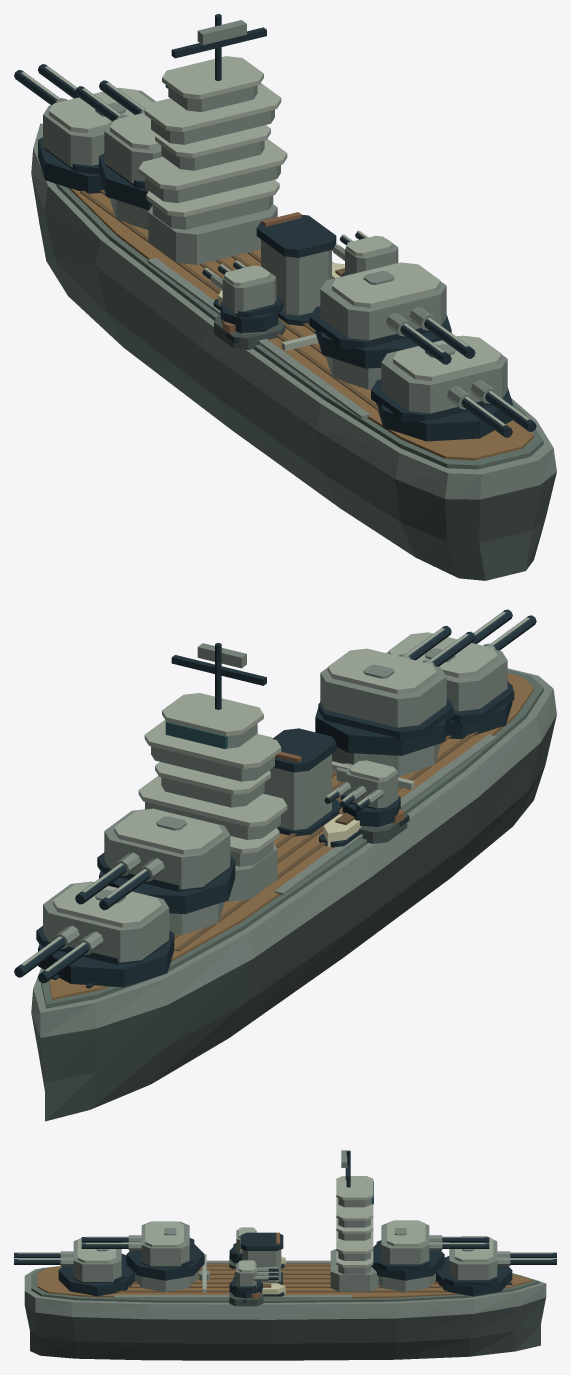
File: historic-nagato.glb
3 views of the same model, one above another, from view 1: azimuth 30°, elevation 25°; view 2: azimuth 150°, elevation 25°; view 3: azimuth 270°, elevation 25° (orthographic). The views are drawn at different scales.
Parts seen in each view (by area): view 1: historic-nagato-historic-nagato-geometry, historic-nagato-part_bridge.022-geometry, historic-nagato-turret_main_3.008-geometry, historic-nagato-turret_main_2.016-geometry, historic-nagato-turret_main_0.017-geometry, historic-nagato-historic_funnel_0.023-geometry, historic-nagato-turret_main_1.016-geometry, historic-nagato-turret_aa_aa-port.024-geometry, historic-nagato-turret_aa_aa-starboard.022-geometry, historic-nagato-part_aa-port.024-geometry; view 2: historic-nagato-historic-nagato-geometry, historic-nagato-part_bridge.022-geometry, historic-nagato-turret_main_2.016-geometry, historic-nagato-turret_main_0.017-geometry, historic-nagato-turret_main_1.016-geometry, historic-nagato-turret_main_3.008-geometry, historic-nagato-historic_funnel_0.023-geometry, historic-nagato-turret_aa_aa-port.024-geometry, historic-nagato-part_aa-port.024-geometry; view 3: historic-nagato-historic-nagato-geometry, historic-nagato-part_bridge.022-geometry, historic-nagato-turret_main_2.016-geometry, historic-nagato-turret_main_1.016-geometry, historic-nagato-turret_main_0.017-geometry, historic-nagato-turret_main_3.008-geometry, historic-nagato-historic_funnel_0.023-geometry, historic-nagato-turret_aa_aa-starboard.022-geometry, historic-nagato-turret_aa_aa-port.024-geometry, historic-nagato-part_aa-starboard.022-geometry.
Boxes of the visible parts, <box> form: historic-nagato-historic-nagato-geometry: <box>31,123,556,580</box>; historic-nagato-part_bridge.022-geometry: <box>138,14,287,264</box>; historic-nagato-turret_main_3.008-geometry: <box>371,335,536,441</box>; historic-nagato-turret_main_2.016-geometry: <box>309,262,475,368</box>; historic-nagato-turret_main_0.017-geometry: <box>14,64,155,193</box>; historic-nagato-historic_funnel_0.023-geometry: <box>256,212,336,326</box>; historic-nagato-turret_main_1.016-geometry: <box>75,80,162,210</box>; historic-nagato-turret_aa_aa-port.024-geometry: <box>202,260,283,333</box>; historic-nagato-turret_aa_aa-starboard.022-geometry: <box>332,230,398,275</box>; historic-nagato-part_aa-port.024-geometry: <box>214,315,285,349</box>; historic-nagato-historic-nagato-geometry: <box>31,668,556,1121</box>; historic-nagato-part_bridge.022-geometry: <box>138,643,287,901</box>; historic-nagato-turret_main_2.016-geometry: <box>315,626,475,755</box>; historic-nagato-turret_main_0.017-geometry: <box>14,881,174,987</box>; historic-nagato-turret_main_1.016-geometry: <box>75,808,235,914</box>; historic-nagato-turret_main_3.008-geometry: <box>386,609,536,739</box>; historic-nagato-historic_funnel_0.023-geometry: <box>263,728,341,836</box>; historic-nagato-turret_aa_aa-port.024-geometry: <box>324,760,400,826</box>; historic-nagato-part_aa-port.024-geometry: <box>359,809,407,843</box>; historic-nagato-historic-nagato-geometry: <box>24,1256,546,1360</box>; historic-nagato-part_bridge.022-geometry: <box>330,1150,378,1291</box>; historic-nagato-turret_main_2.016-geometry: <box>81,1221,204,1280</box>; historic-nagato-turret_main_1.016-geometry: <box>371,1220,489,1280</box>; historic-nagato-turret_main_0.017-geometry: <box>435,1236,556,1296</box>; historic-nagato-turret_main_3.008-geometry: <box>14,1238,135,1296</box>; historic-nagato-historic_funnel_0.023-geometry: <box>234,1232,283,1285</box>; historic-nagato-turret_aa_aa-starboard.022-geometry: <box>229,1260,278,1298</box>; historic-nagato-turret_aa_aa-port.024-geometry: <box>229,1227,256,1263</box>; historic-nagato-part_aa-starboard.022-geometry: <box>229,1288,263,1306</box>.
Size of the model in its own units: 1.04 by 1.97 by 4.99.
